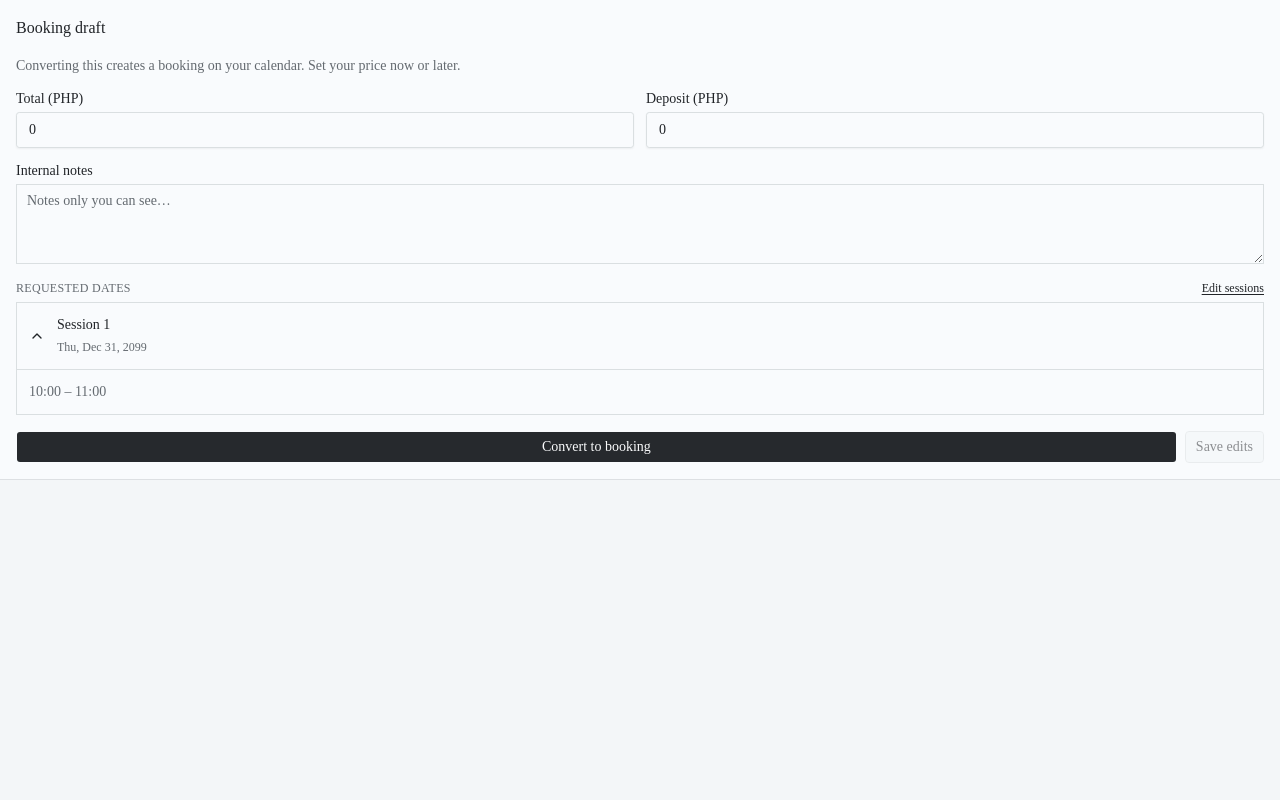
BookingDraftCard › snaps end to start + 1h on blur when end is at or before start
Click the button "Edit sessions" at x=1233, y=288, box [1202, 280, 1264, 296]
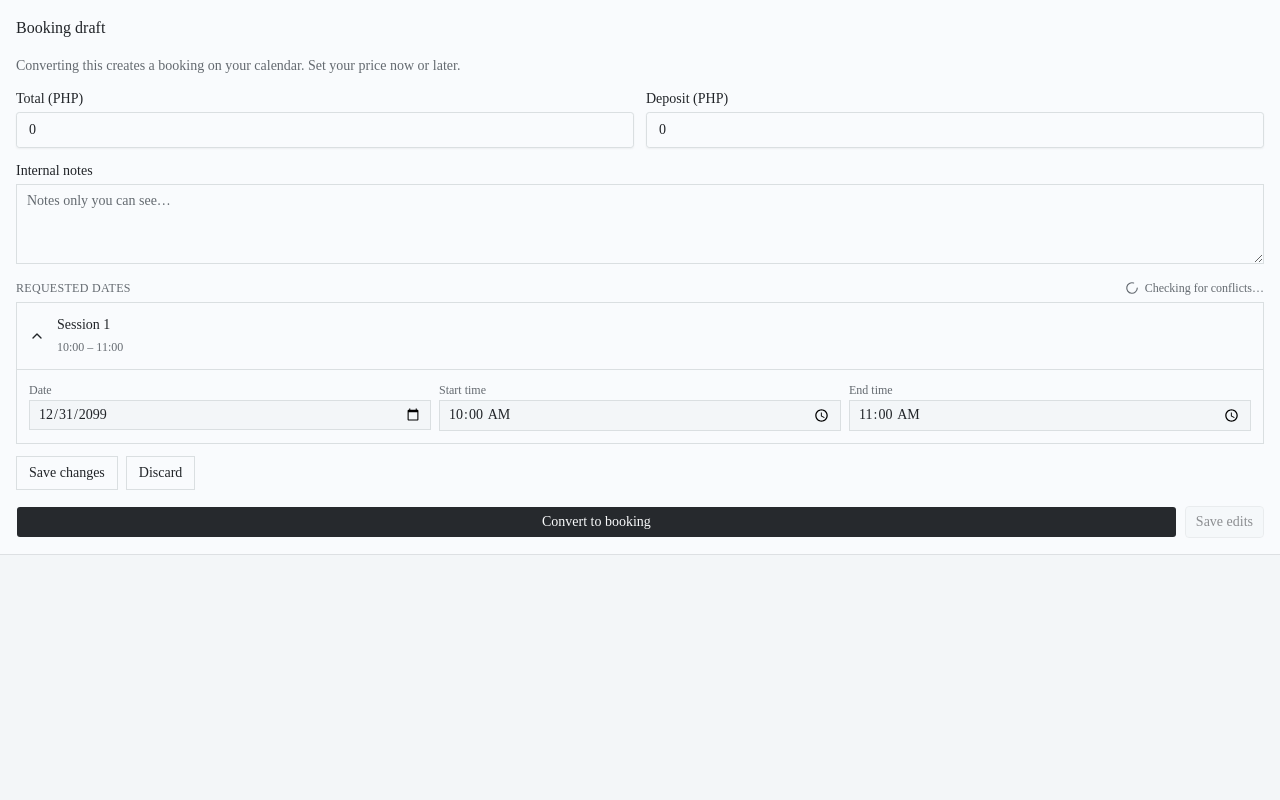
Replace the text in the time field below "End time" with "09:00" at x=1050, y=415, box [849, 400, 1251, 431]
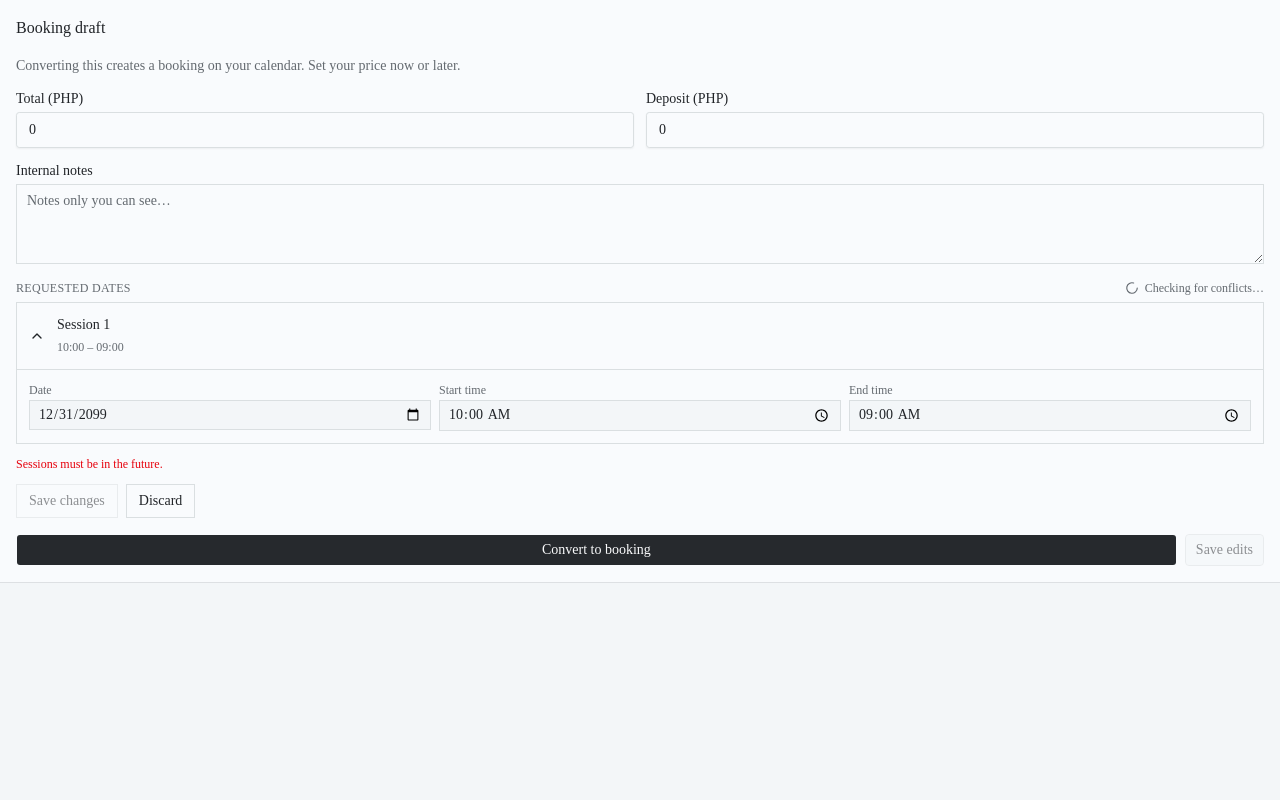
Leave the time field below "End time", box [849, 400, 1251, 431]
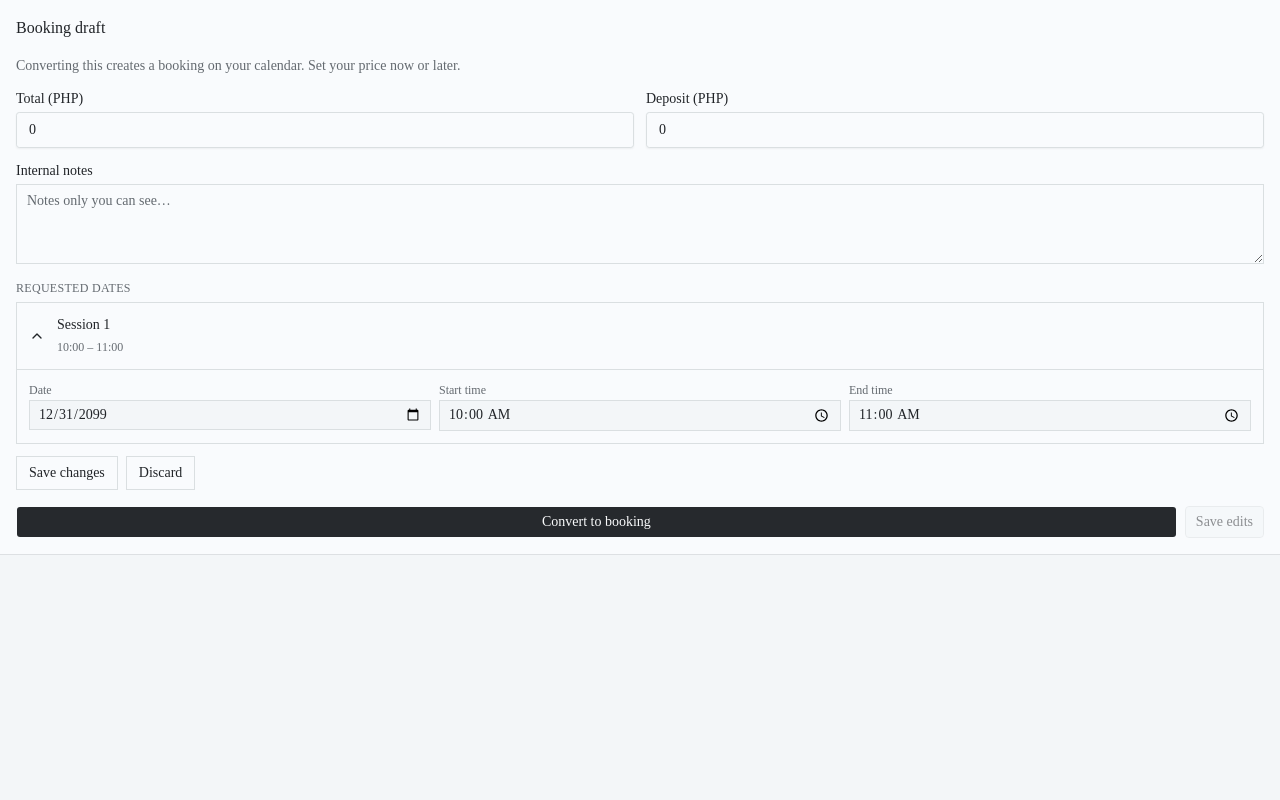
Expected: the time field below "End time" holds "11:00", [849, 400, 1251, 431]
